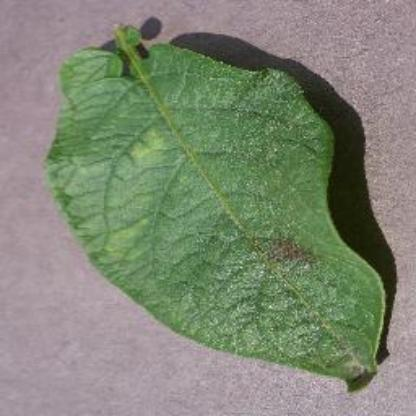Late-Blight: (44, 17, 394, 391)
